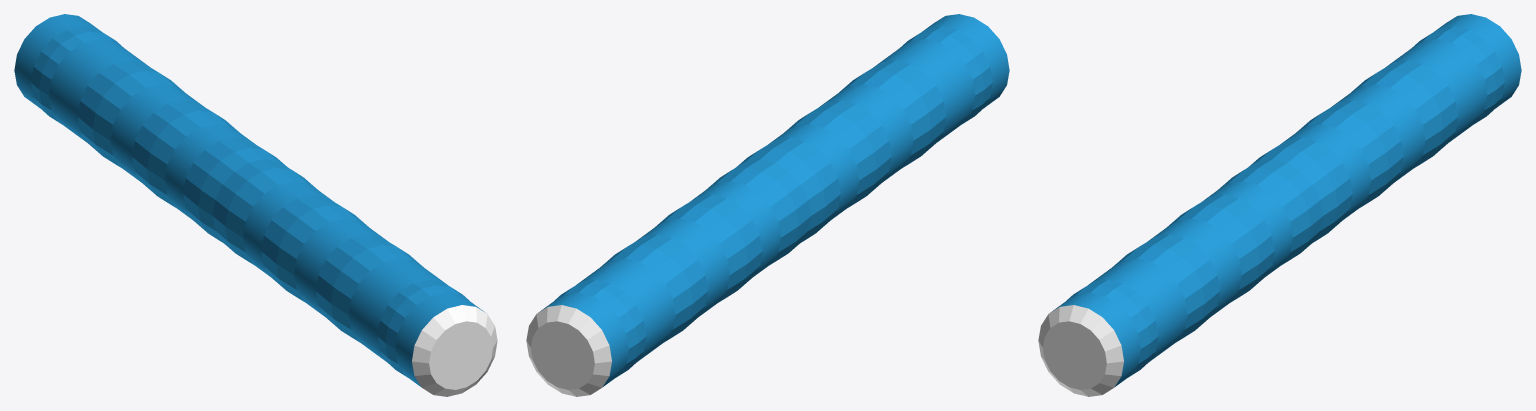
File: SM_sweet_03.fbx
3 views of the same model, side by side, from view 1: azimuth 30°, elevation 25°; view 2: azimuth 150°, elevation 25°; view 3: azimuth 330°, elevation 25° (orthographic).
Visible parts, largest first — view 1: sweet_03; view 2: sweet_03; view 3: sweet_03.
Boxes of the visible parts, box(x1,y1,x2,y2) form: sweet_03: box(14, 14, 497, 396); sweet_03: box(526, 14, 1009, 396); sweet_03: box(1038, 14, 1521, 396).
Size of the model in its own units: 7.14 by 7.03 by 57.16.
